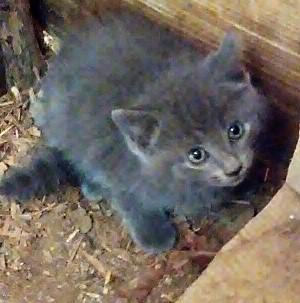rblue: (102, 29, 268, 202)
